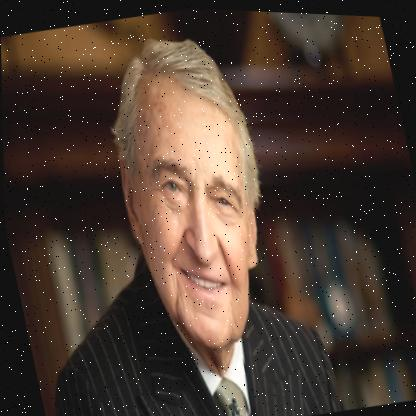person: (87, 23, 301, 370)
